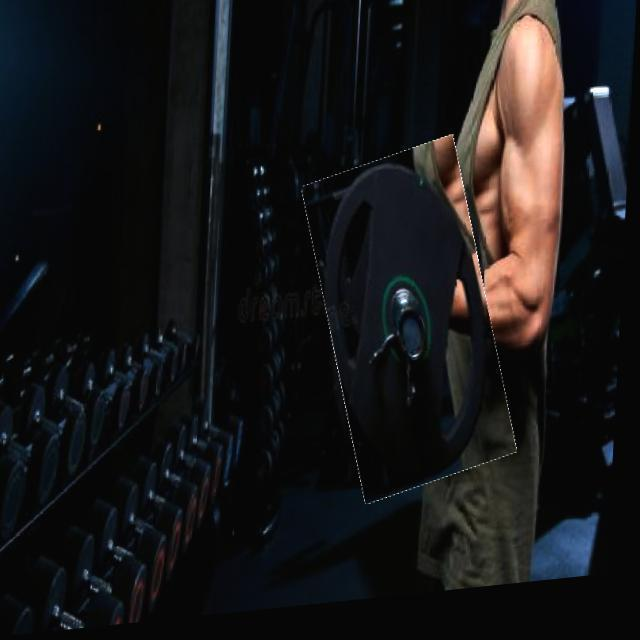barbell: (312, 148, 518, 512)
